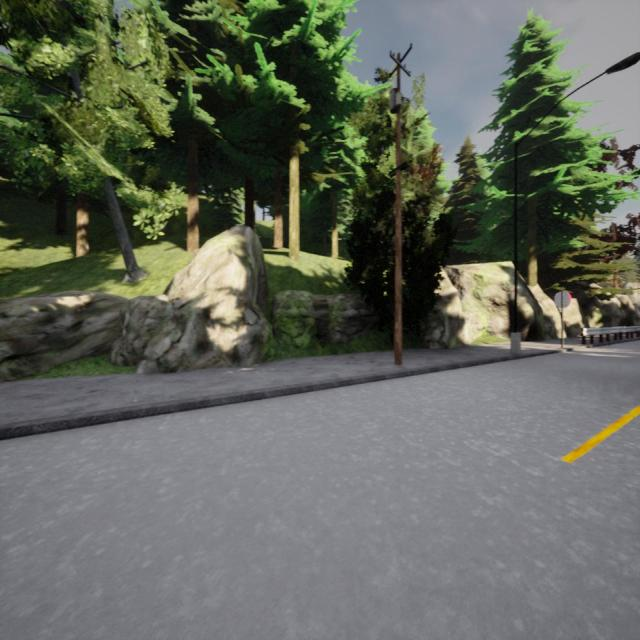Traffic_Signs: (554, 291, 572, 307)
